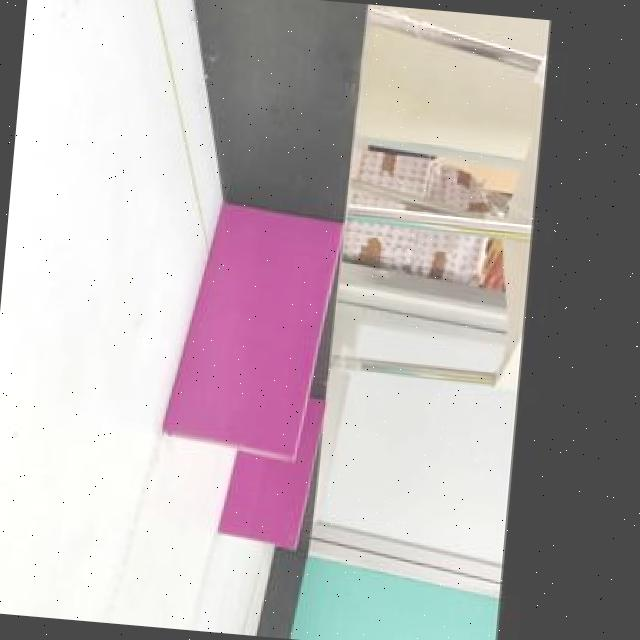xparking: (163, 205, 343, 458), (217, 453, 312, 546)
